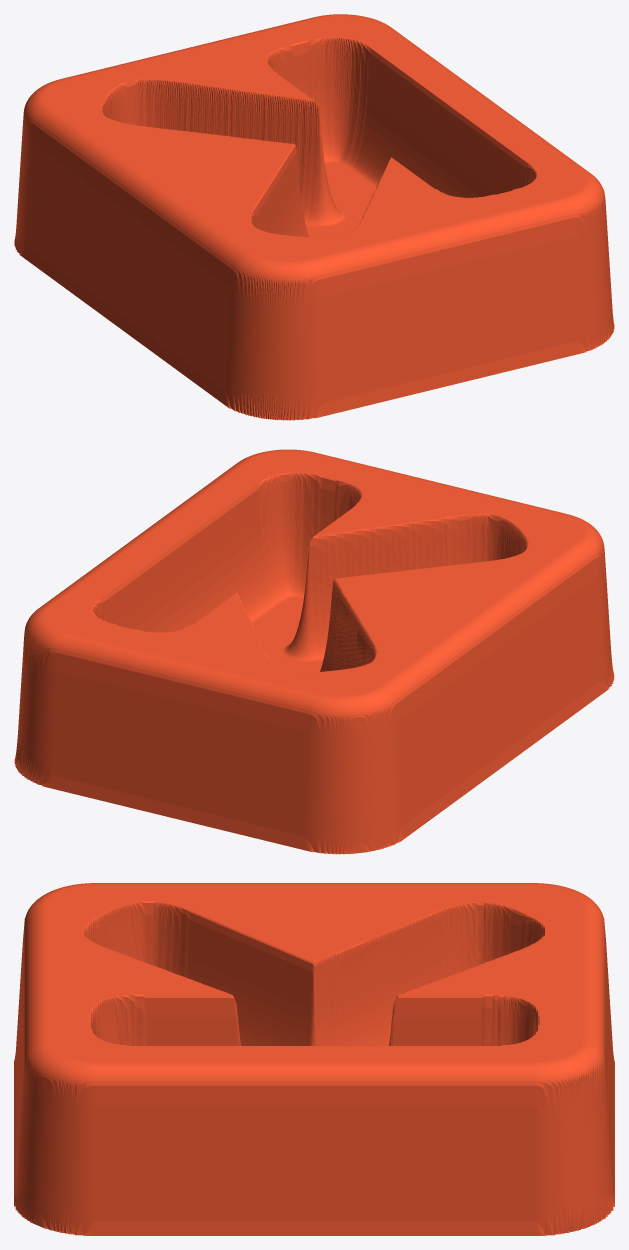
The model's file is mold.glb.
The picture shows the model from 3 angles, top to bottom: view 1: azimuth 30°, elevation 25°; view 2: azimuth 150°, elevation 25°; view 3: azimuth 270°, elevation 25°; orthographic projection. The views are drawn at different scales.
Parts seen in each view (by area): view 1: geometry_0; view 2: geometry_0; view 3: geometry_0.
Part boxes in pixels (x1,y1,x2,y2): geometry_0: [14, 14, 614, 420]; geometry_0: [14, 449, 614, 854]; geometry_0: [14, 883, 614, 1235].
Size of the model in its own units: 0.0538 by 0.0197 by 0.067.
